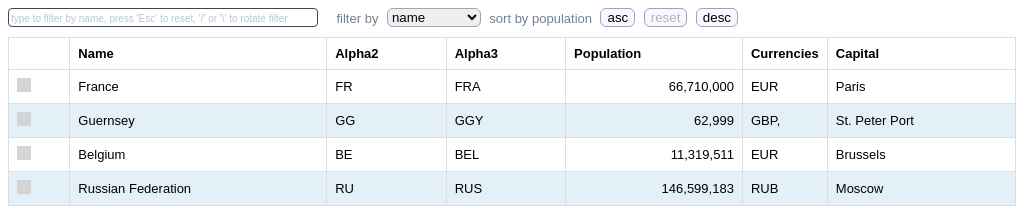
Test: countries table tests › sorting tests › should reset sorting
Click the button "desc": (717, 18) x1=696 y1=8 x2=738 y2=27
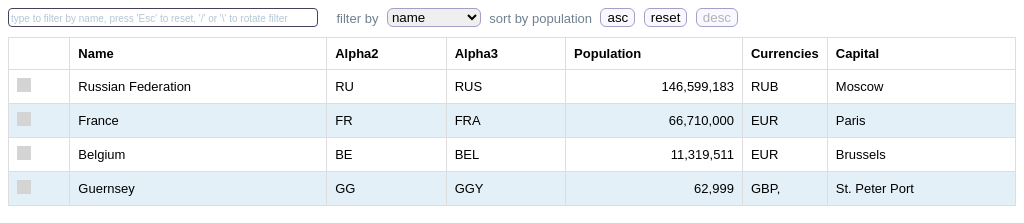
Click the button "reset": (666, 18) x1=644 y1=8 x2=687 y2=27
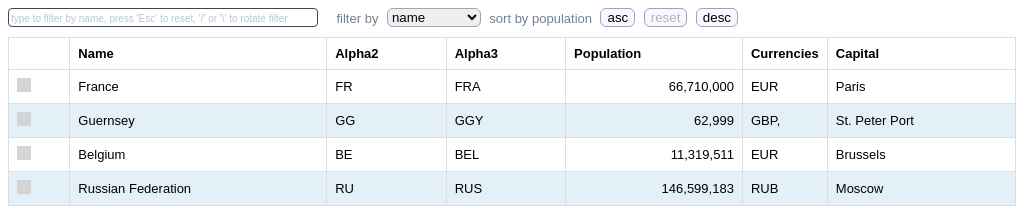
Expected: the cell with test id "first-row" reads "FRA", x1=455 y1=79 x2=481 y2=94
Now the button "desc" is enabled, box x1=696 y1=8 x2=738 y2=27
Now the button "reset" is disabled, box x1=644 y1=8 x2=687 y2=27
